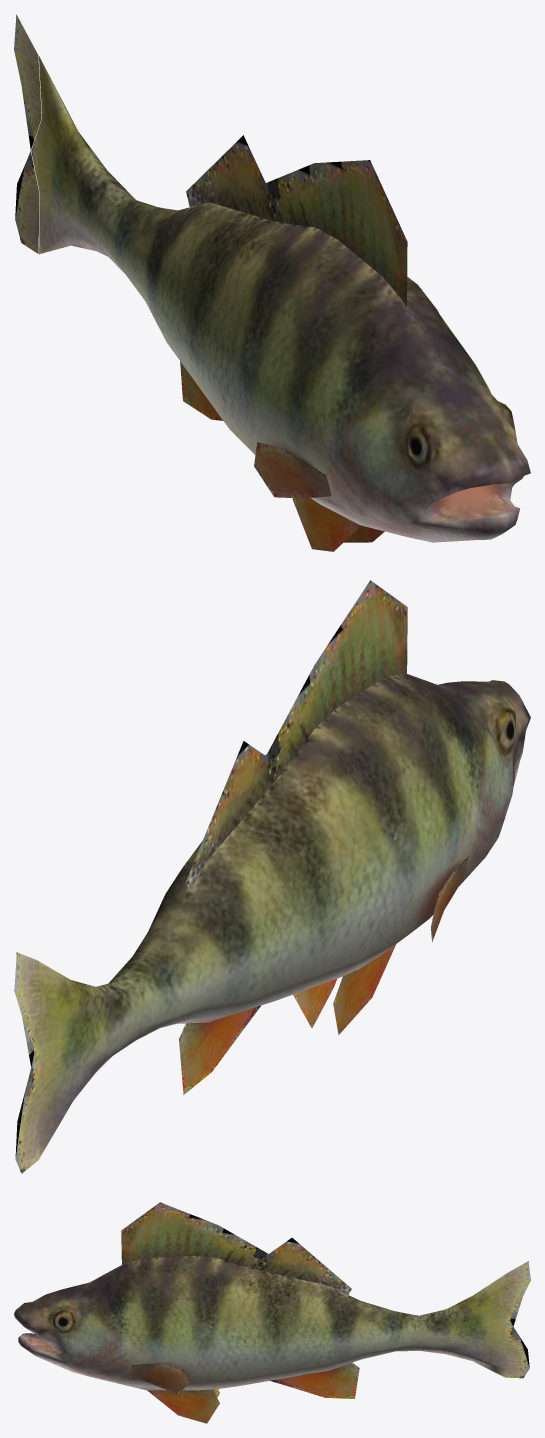
The model's file is yellowperch.worldmodel.glb.
3 views of the same model, one above another, from view 1: azimuth 30°, elevation 25°; view 2: azimuth 150°, elevation 25°; view 3: azimuth 270°, elevation 25° (orthographic). The views are drawn at different scales.
Visible parts, largest first — view 1: yellow_perch_body_LOD0; view 2: yellow_perch_body_LOD0; view 3: yellow_perch_body_LOD0.
Part boxes in pixels (left/top/right/bottom): yellow_perch_body_LOD0: left=14, top=14, right=530, bottom=551; yellow_perch_body_LOD0: left=14, top=580, right=530, bottom=1173; yellow_perch_body_LOD0: left=14, top=1202, right=530, bottom=1423.
Bounding box in the file's own units: 0.0594 × 0.1319 × 0.2833.
1 material, 1 textured.
